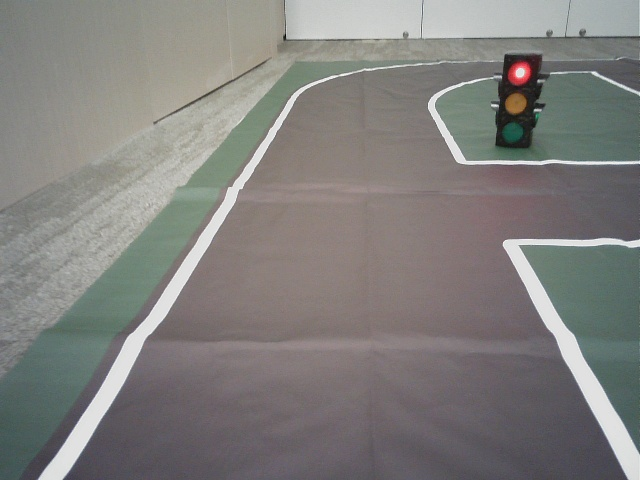red: (499, 56, 531, 143)
